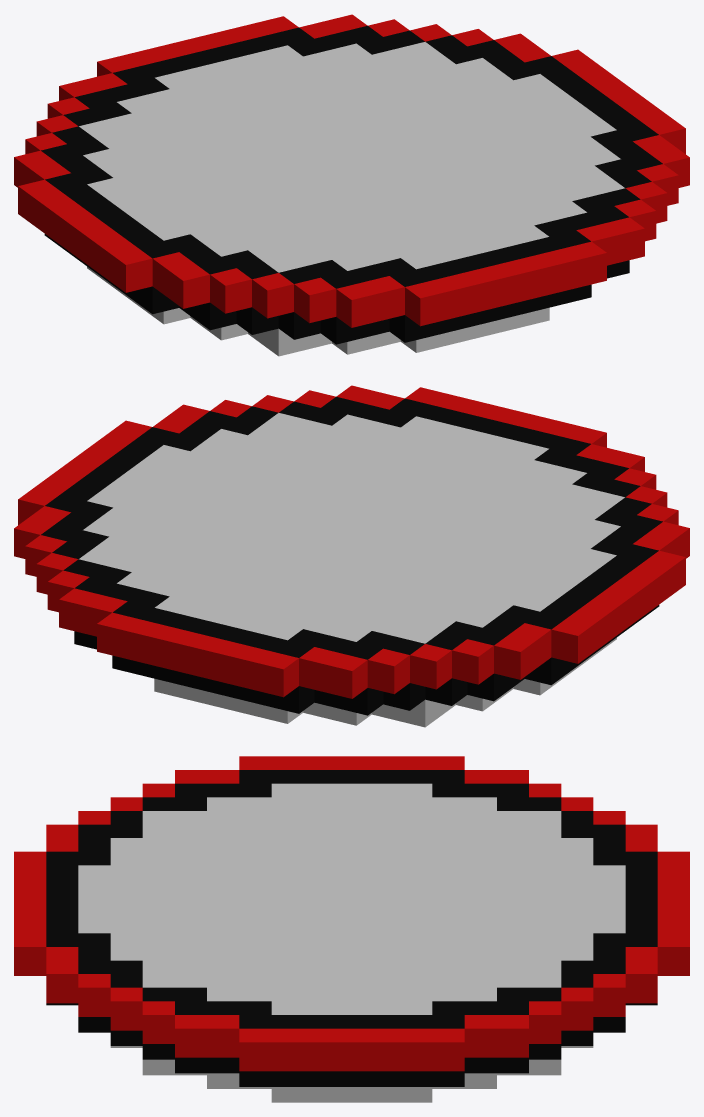
Rendered from battle_zone_red.obj.
3 renders of one model, top to bottom at view 1: azimuth 30°, elevation 25°; view 2: azimuth 150°, elevation 25°; view 3: azimuth 270°, elevation 25°, orthographic. The views are drawn at different scales.
Visible parts, largest first — view 1: battle_zone_red; view 2: battle_zone_red; view 3: battle_zone_red.
Boxes of the visible parts, x1,y1,x2,y2 form: battle_zone_red: (14, 14, 689, 356); battle_zone_red: (14, 385, 689, 727); battle_zone_red: (14, 756, 689, 1102).
Size of the model in its own units: 21 by 3 by 21.
1 material, 1 textured.
